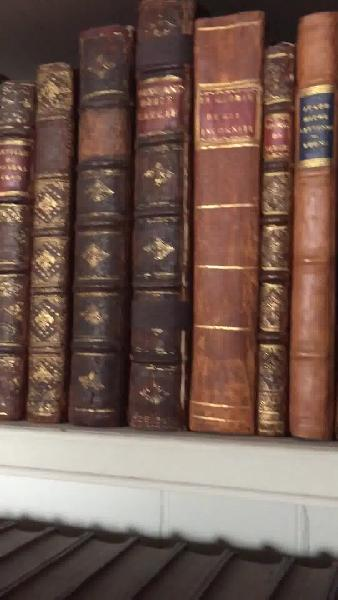Aa6-29: (1, 72, 43, 432)
Aa6-30: (32, 74, 69, 418)
Aa6-31: (72, 23, 120, 417)
Aa6-32: (134, 7, 190, 423)
Aa6-33: (188, 15, 256, 439)
Aa6-34: (250, 37, 290, 439)
Aa6-35: (294, 20, 338, 433)
